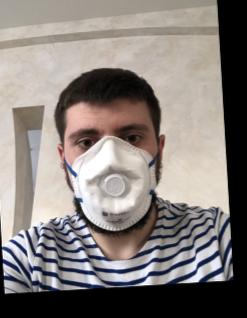with_mask: (65, 117, 159, 236)
